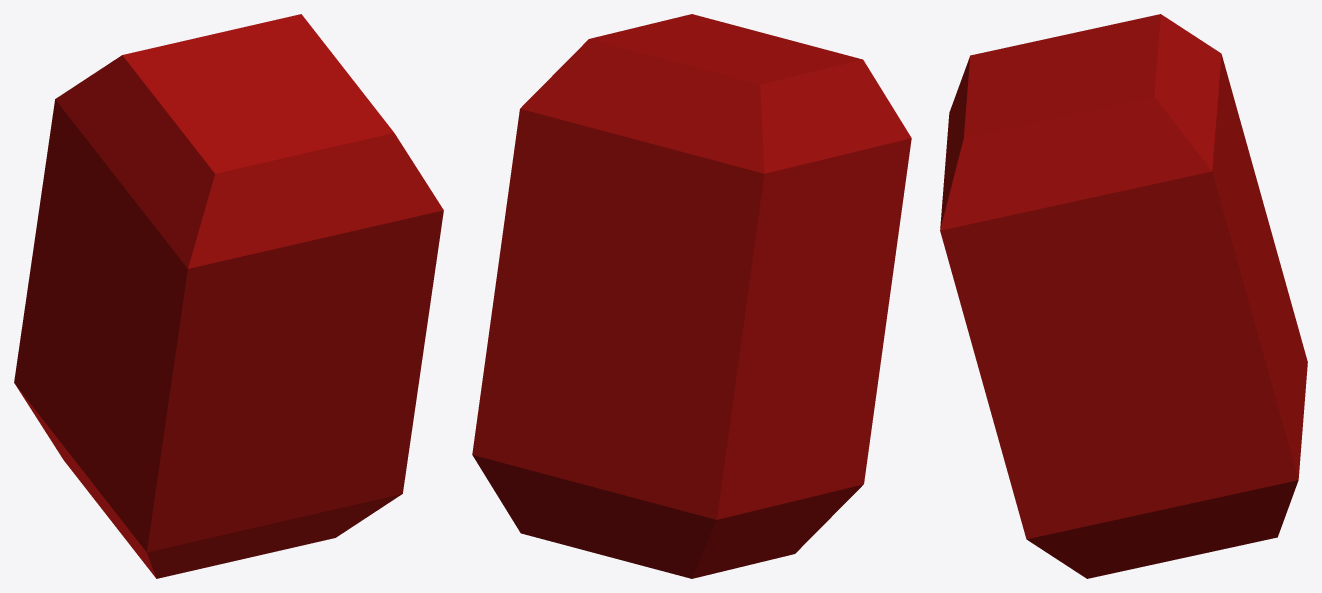
File: town_jewel0018.obj
3 renders of one model, left to right at view 1: azimuth 30°, elevation 25°; view 2: azimuth 150°, elevation 25°; view 3: azimuth 270°, elevation 25°, orthographic. The views are drawn at different scales.
Visible parts, largest first — view 1: RedJewel; view 2: RedJewel; view 3: RedJewel.
Boxes of the visible parts, x1,y1,x2,y2 form: RedJewel: (14, 14, 443, 578); RedJewel: (472, 14, 911, 578); RedJewel: (940, 14, 1307, 578).
Bounding box in the file's own units: 0.6684 × 1.21 × 0.8374.
